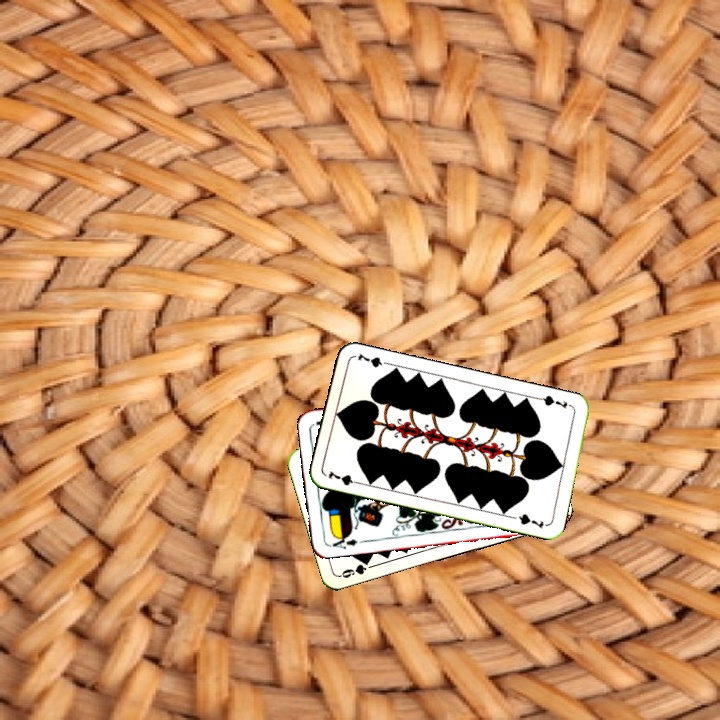EA: (326, 531, 366, 551)
G7: (324, 467, 364, 488), (535, 391, 575, 411)
G9: (336, 557, 372, 581)
